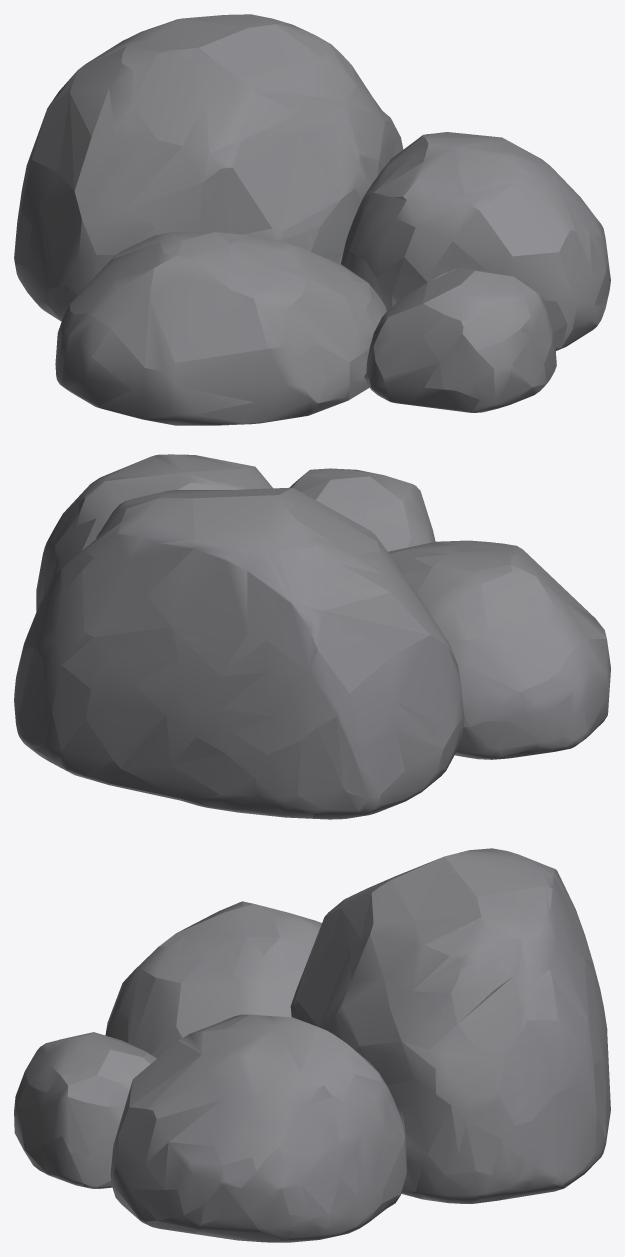
File: rock-small.glb
3 views of the same model, one above another, from view 1: azimuth 30°, elevation 25°; view 2: azimuth 150°, elevation 25°; view 3: azimuth 270°, elevation 25° (orthographic). The views are drawn at different scales.
Visible parts, largest first — view 1: nature-rock-small-fit; view 2: nature-rock-small-fit; view 3: nature-rock-small-fit.
Boxes of the visible parts, x1=… form: nature-rock-small-fit: x1=14, y1=14, x2=610, y2=425; nature-rock-small-fit: x1=14, y1=454, x2=610, y2=819; nature-rock-small-fit: x1=14, y1=848, x2=610, y2=1242.
Bounding box in the file's own units: 1.16 × 0.52 × 1.13.
Materials: 1 (1 with a texture image).
